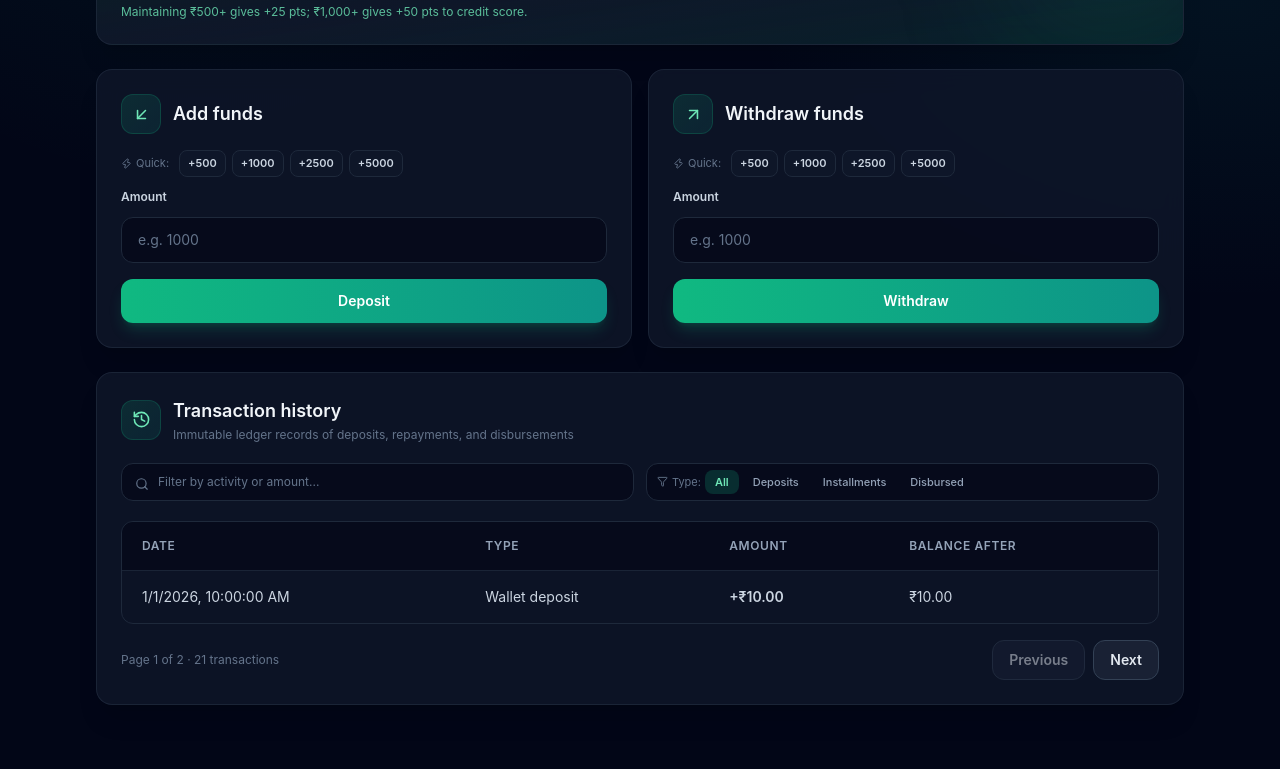
Test: Wallet transaction pagination › loads and changes the displayed server page
(page scrolled)
Expected: the text "Wallet deposit" is shown, [465,570,709,622]
Expected: the text "Page 1 of 2 · 21 transactions" is shown, [121,652,279,668]
What coordinates should you click on to do the following:
click the button "Next"
I would click on:
 (1126, 660)
Its box is [1093,640,1159,680].
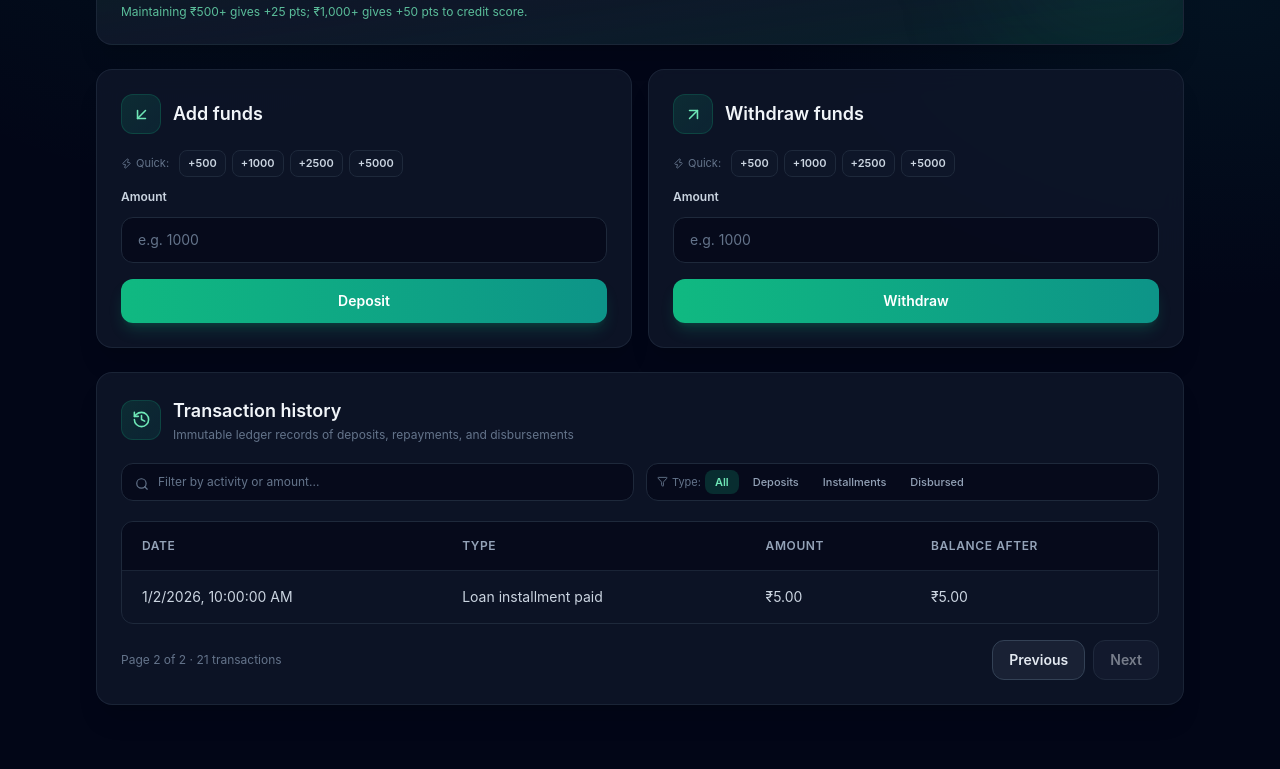
Now the text "Loan installment paid" is shown, box [442,570,746,622]
Now the text "Page 2 of 2 · 21 transactions" is shown, box [121,652,282,668]
